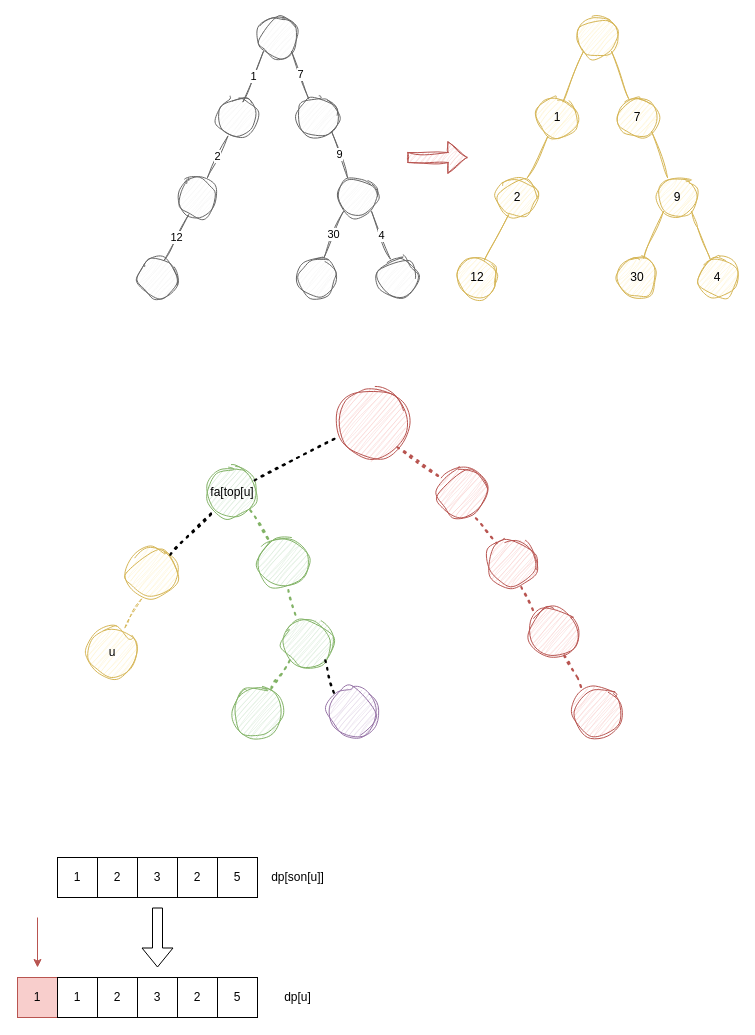
Some shapes in this 755 by 1035 pixel diagram are drawn without their labels. Here are the shapes that lost their labels. From the top down, the centre of each, then its label:
At point 372,422: "fa[fa[top[u]]]".
At point 152,572: "top[u]".
